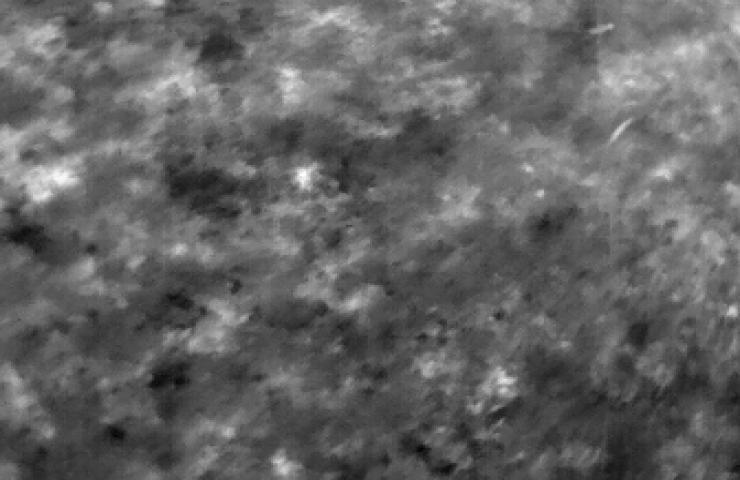landmines: (293, 162, 327, 196)
